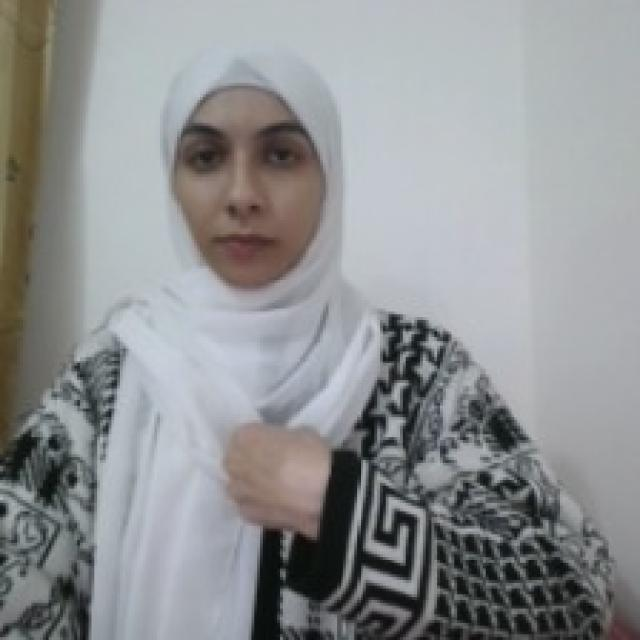me: (221, 418, 338, 540)
